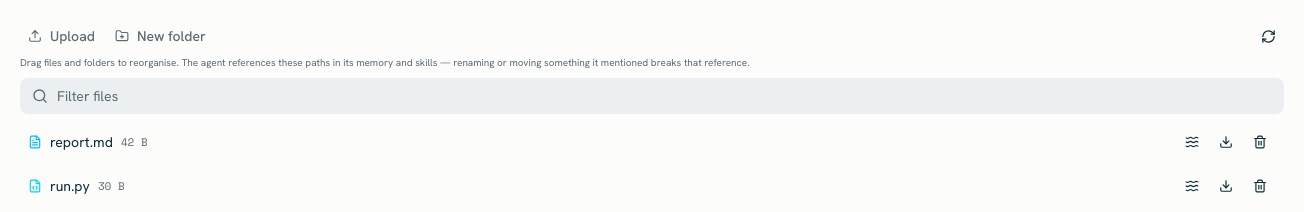
Test: opening a document from the files tree › renders the document in the panel, in place of the tree
Click the button "report.md" at (81, 142), box [50,132,113,152]
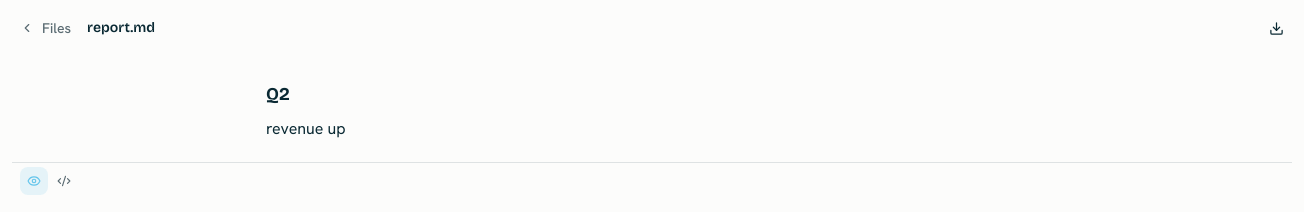
Result: the text "revenue up" is shown at [266,118,346,139]
Result: the text "run.py" is gone
